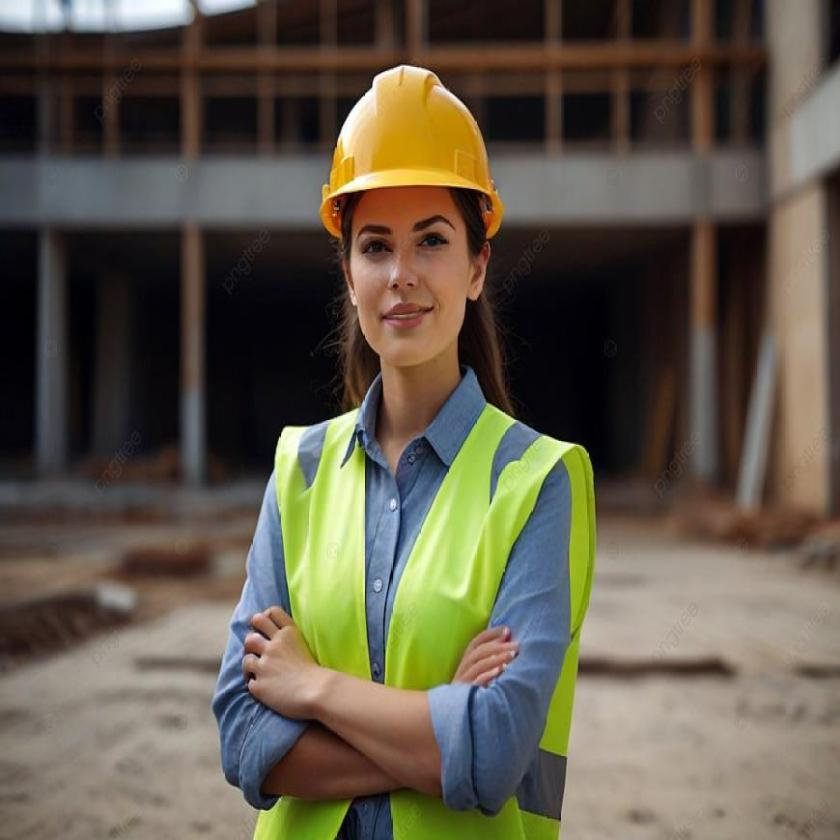Con_casco: (312, 60, 507, 402)
